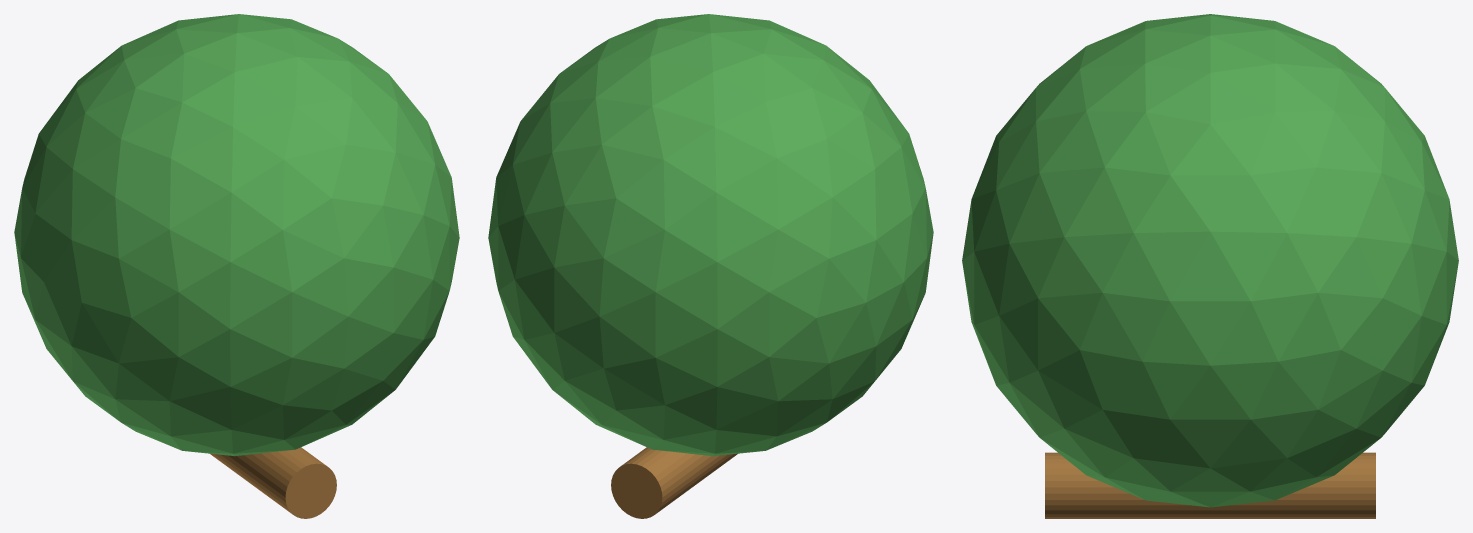
Rendered from tree.glb.
3 views of the same model, side by side, from view 1: azimuth 30°, elevation 25°; view 2: azimuth 150°, elevation 25°; view 3: azimuth 270°, elevation 25° (orthographic). The views are drawn at different scales.
Visible parts, largest first — view 1: world; view 2: world; view 3: world.
Part boxes in pixels (<box>): world: <box>14,14,459,518</box>; world: <box>488,14,933,518</box>; world: <box>962,14,1458,518</box>.
Size of the model in its own units: 3 by 3.2 by 3.
